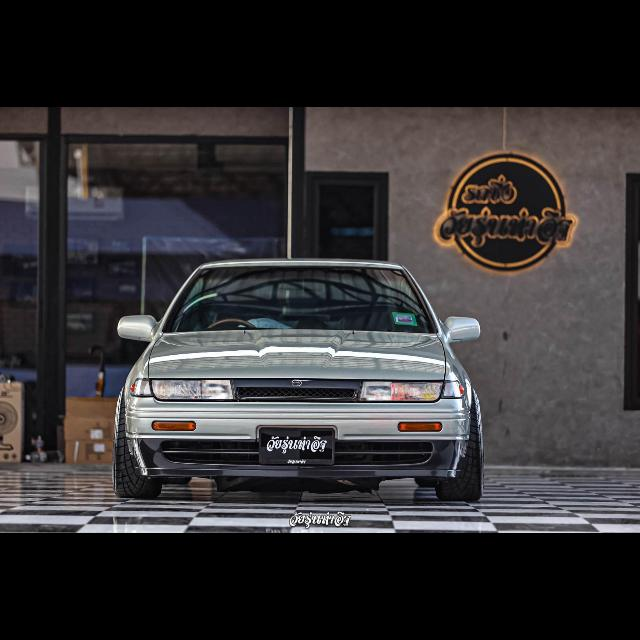cars: (100, 246, 494, 508)
